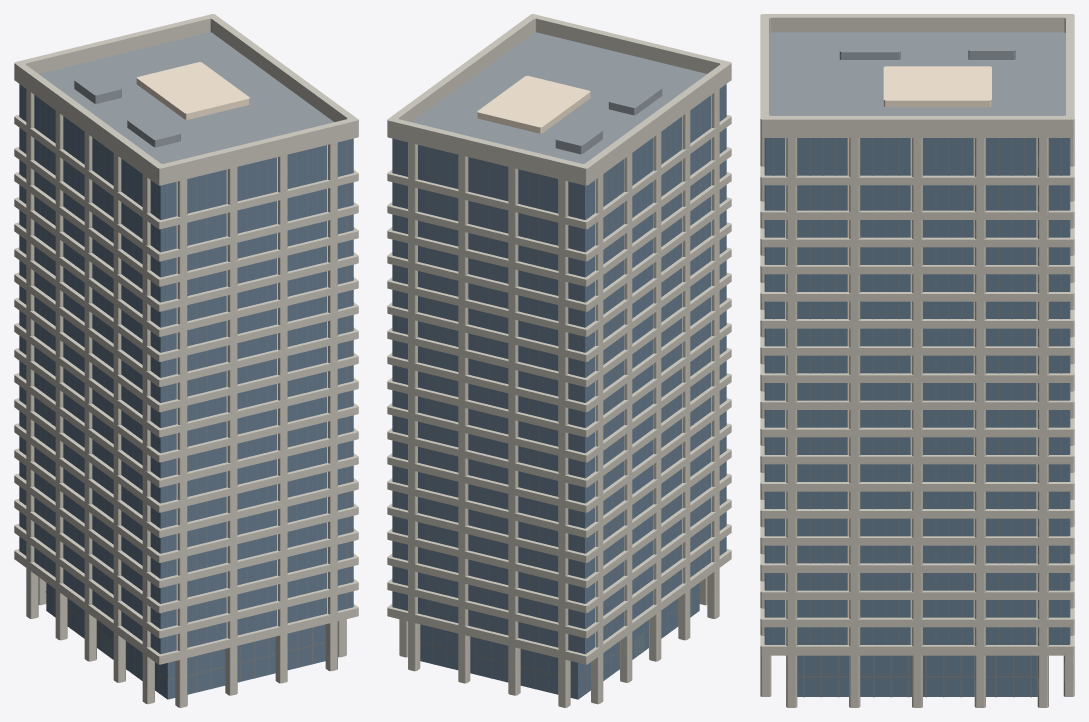
The model's file is nb-520-newport-center-drive.detail.glb.
3 renders of one model, left to right at view 1: azimuth 30°, elevation 25°; view 2: azimuth 150°, elevation 25°; view 3: azimuth 270°, elevation 25°, orthographic. The views are drawn at different scales.
Parts seen in each view (by area): view 1: 520 Newport Center Drive; view 2: 520 Newport Center Drive; view 3: 520 Newport Center Drive.
Part boxes in pixels (x1,y1,x2,y2): 520 Newport Center Drive: [14, 14, 358, 707]; 520 Newport Center Drive: [387, 14, 731, 707]; 520 Newport Center Drive: [760, 14, 1074, 707].
Bounding box in the file's own units: 37 × 96 × 46.5.
